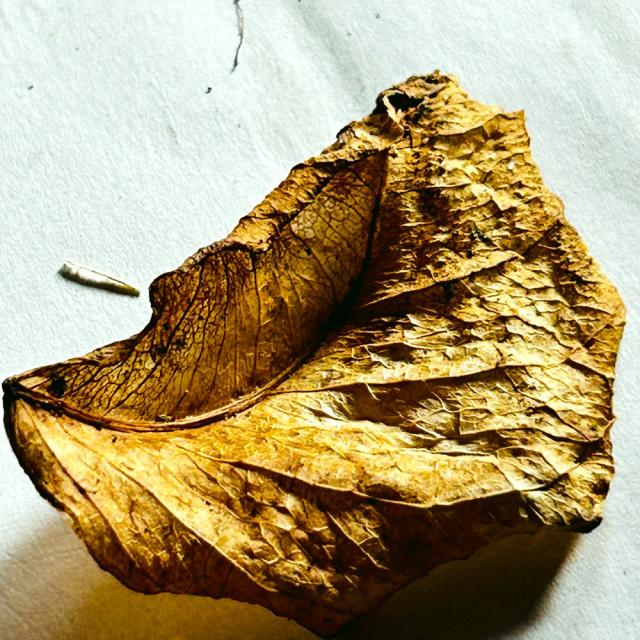DryLeaf_Lemon: (5, 71, 625, 632)
